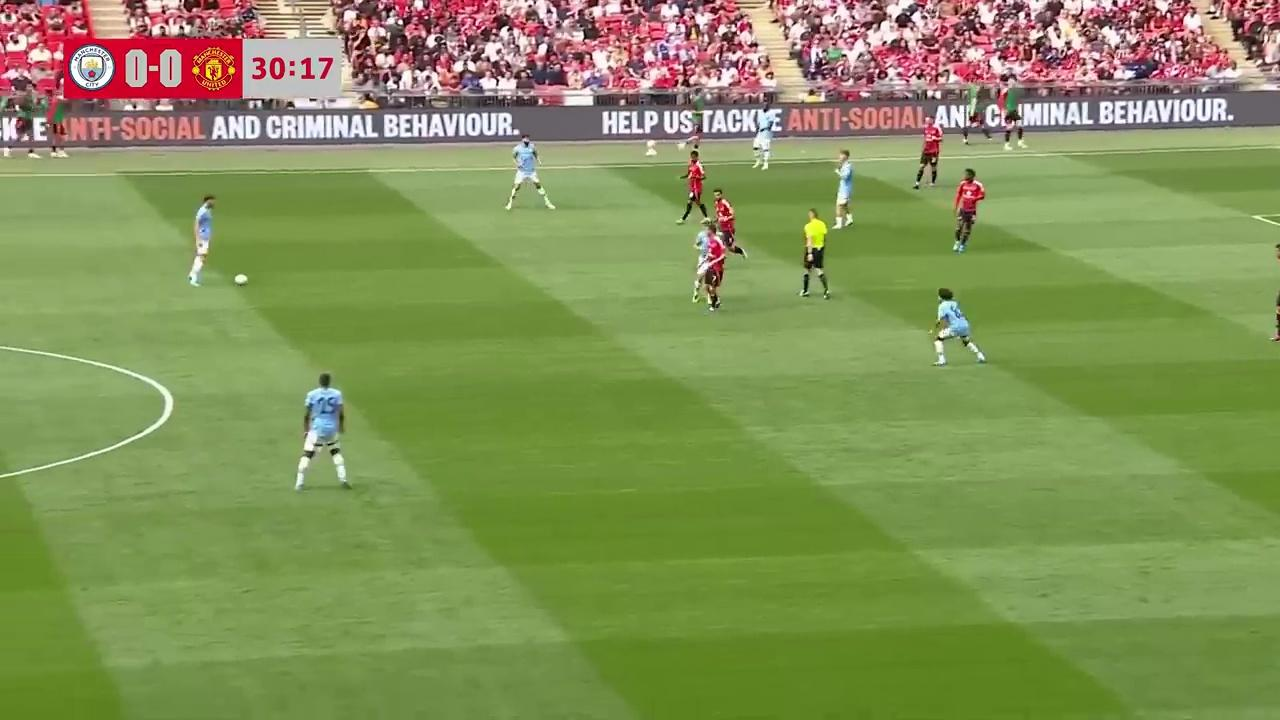ball: (232, 271, 249, 285)
player: (293, 371, 351, 492), (929, 287, 985, 367), (505, 134, 555, 211), (692, 222, 726, 311), (952, 167, 985, 253), (187, 194, 215, 286), (712, 190, 747, 260), (676, 150, 708, 224), (752, 97, 781, 170), (913, 126, 941, 190), (833, 149, 854, 228), (1271, 264, 1280, 345)
referee: (799, 208, 831, 299)
